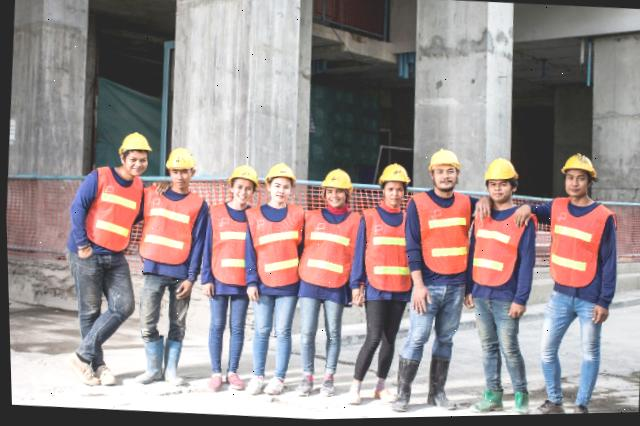helmet: (557, 151, 597, 182), (161, 143, 198, 171), (480, 158, 517, 185), (424, 148, 461, 175), (114, 131, 151, 155), (263, 159, 294, 186), (376, 162, 407, 186), (321, 167, 352, 191), (226, 163, 256, 185)
vest: (534, 194, 615, 297), (127, 182, 206, 268), (402, 189, 474, 280), (353, 201, 421, 296), (76, 162, 146, 253), (466, 198, 532, 292), (194, 198, 257, 292), (297, 201, 361, 291), (243, 197, 301, 291)
